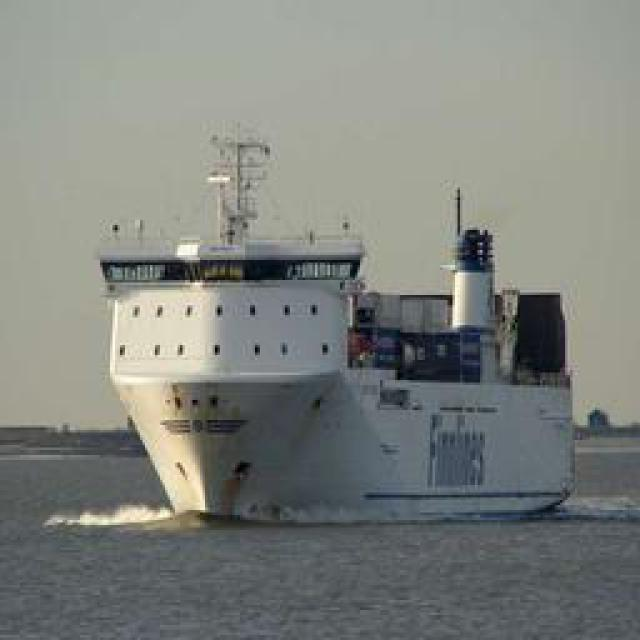Ship: (86, 115, 596, 535)
